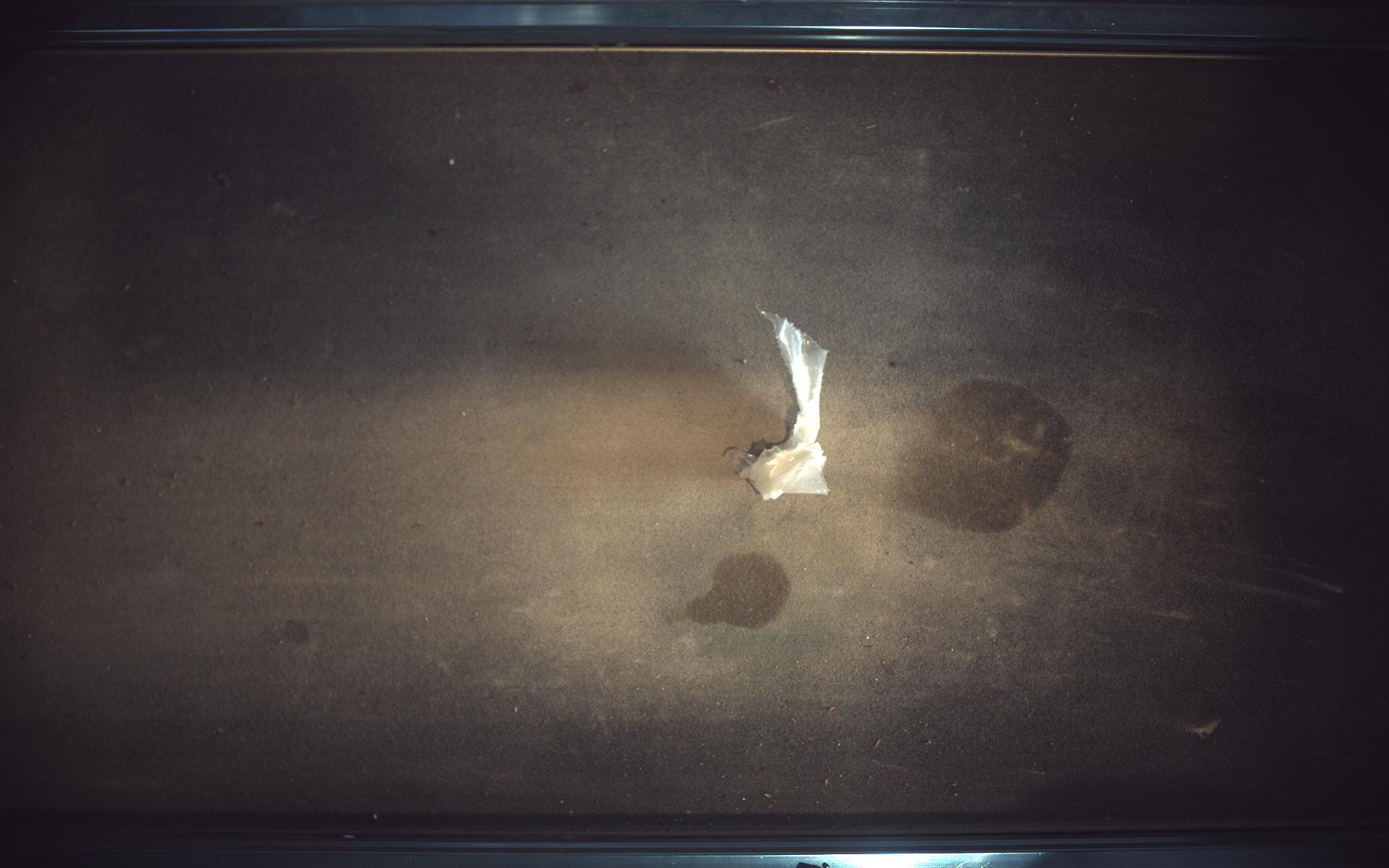general_w: (727, 310, 830, 501)
